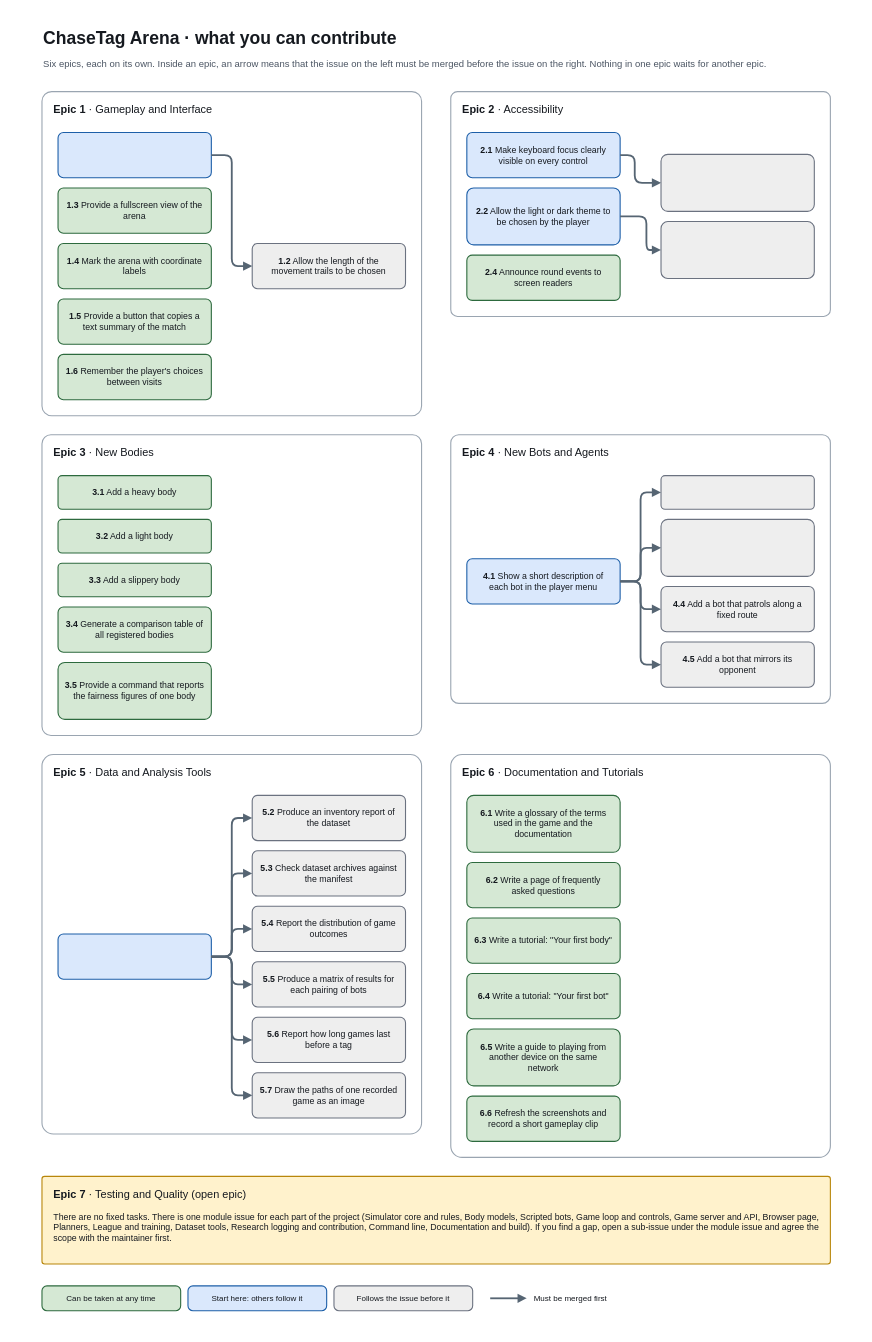
This 872x1342 diagram has some shape labels left out. Here are the shapes that lost their labels. From the top down, the centre of each, then its label:
pixel 134 155: 1.1 Allow the movement trails to be shown or hidden
pixel 737 183: 2.5 Ensure the page stays usable at 200% zoom and with larger text
pixel 737 250: 2.3 Provide a colour palette suitable for colour-vision deficiency
pixel 737 492: 4.2 Add a cautious runner
pixel 737 548: 4.3 Add a chaser that anticipates the path of the runner
pixel 134 956: 5.1 Provide a shared reader for the dataset
